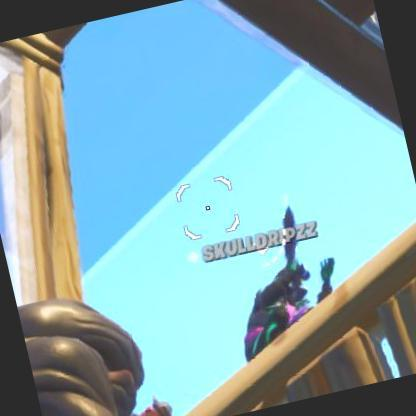person: (245, 251, 332, 379)
